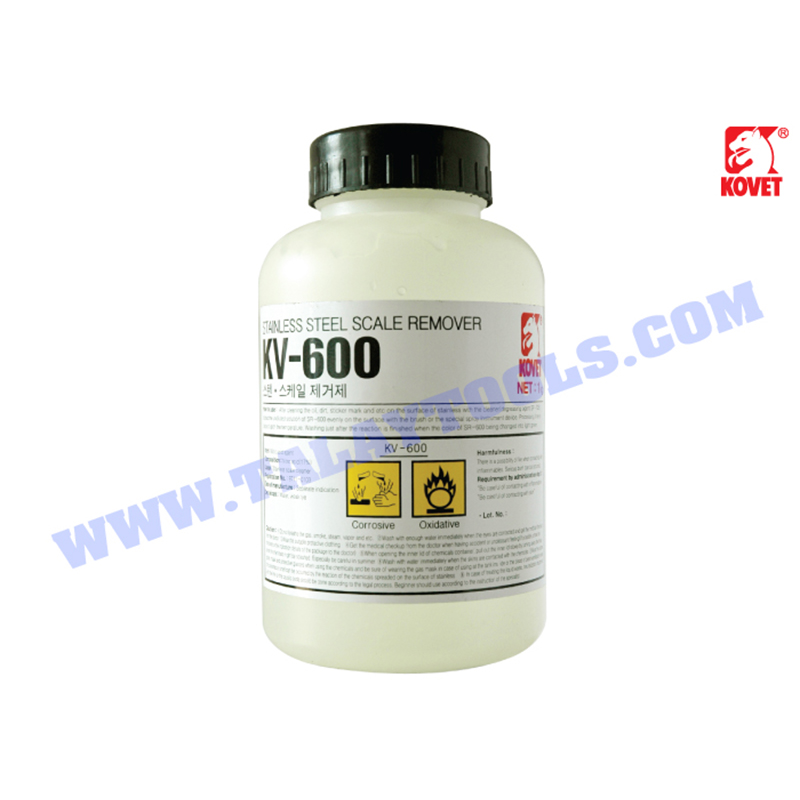Cleaning_solution: (240, 105, 559, 681)
